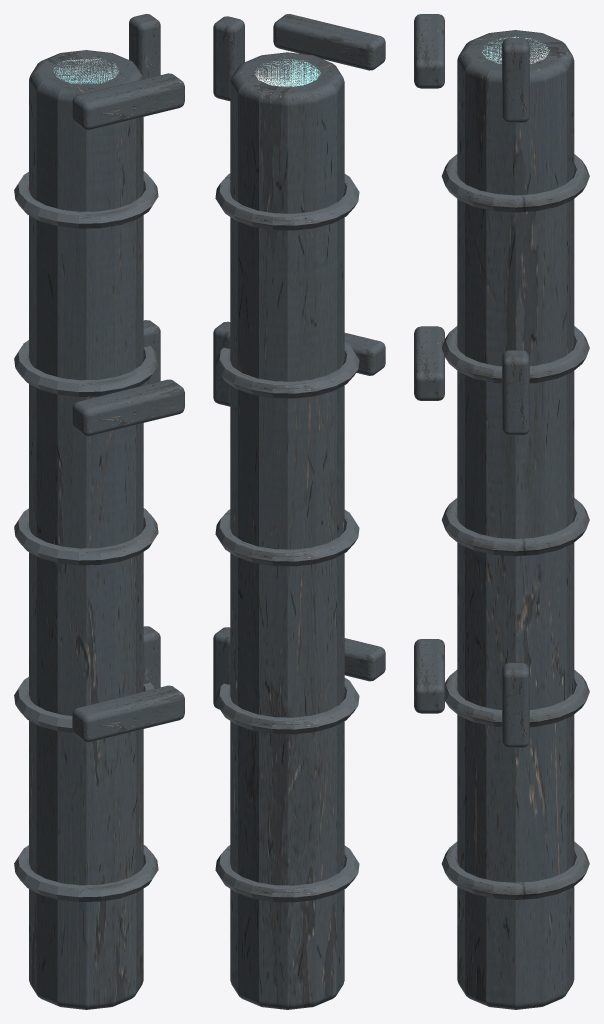
File: conduit.glb
The picture shows the model from 3 angles, left to right: view 1: azimuth 30°, elevation 25°; view 2: azimuth 150°, elevation 25°; view 3: azimuth 270°, elevation 25°; orthographic projection. The views are drawn at different scales.
Visible parts, largest first — view 1: ConduitPipe, ConduitBracket0, ConduitBracket1, ConduitBracket2, ConduitCollar4, ConduitCollar2, ConduitCollar0, ConduitCollar3, ConduitStrap2, ConduitCollar1, ConduitStrap0, ConduitInner (+1 smaller); view 2: ConduitPipe, ConduitBracket2, ConduitCollar4, ConduitCollar2, ConduitCollar0, ConduitCollar1, ConduitCollar3, ConduitStrap2, ConduitBracket0, ConduitInner, ConduitBracket1, ConduitStrap0 (+1 smaller); view 3: ConduitPipe, ConduitCollar0, ConduitCollar4, ConduitCollar2, ConduitCollar3, ConduitCollar1, ConduitStrap0, ConduitStrap2, ConduitStrap1, ConduitBracket0, ConduitBracket2, ConduitBracket1 (+1 smaller).
Part boxes in pixels (<box>): ConduitPipe: <box>29,50,143,1009</box>; ConduitBracket0: <box>72,685,184,742</box>; ConduitBracket1: <box>72,379,184,436</box>; ConduitBracket2: <box>72,73,184,129</box>; ConduitCollar4: <box>14,171,158,228</box>; ConduitCollar2: <box>14,508,158,565</box>; ConduitCollar0: <box>14,845,158,901</box>; ConduitCollar3: <box>14,340,158,396</box>; ConduitStrap2: <box>129,14,160,79</box>; ConduitCollar1: <box>14,677,154,732</box>; ConduitStrap0: <box>143,626,160,688</box>; ConduitInner: <box>54,58,118,83</box>; ConduitPipe: <box>230,52,344,1009</box>; ConduitBracket2: <box>273,14,385,70</box>; ConduitCollar4: <box>215,173,359,230</box>; ConduitCollar2: <box>215,509,359,566</box>; ConduitCollar0: <box>215,845,359,902</box>; ConduitCollar1: <box>215,678,359,734</box>; ConduitCollar3: <box>215,342,359,398</box>; ConduitStrap2: <box>213,16,244,101</box>; ConduitBracket0: <box>344,638,385,681</box>; ConduitInner: <box>255,59,320,86</box>; ConduitBracket1: <box>344,333,385,375</box>; ConduitStrap0: <box>213,627,230,709</box>; ConduitPipe: <box>457,30,574,1009</box>; ConduitCollar0: <box>441,841,589,899</box>; ConduitCollar4: <box>441,154,589,212</box>; ConduitCollar2: <box>442,498,589,556</box>; ConduitCollar3: <box>441,326,589,383</box>; ConduitCollar1: <box>445,670,589,727</box>; ConduitStrap0: <box>502,662,529,747</box>; ConduitStrap2: <box>502,37,529,122</box>; ConduitStrap1: <box>502,350,529,435</box>; ConduitBracket0: <box>414,639,444,713</box>; ConduitBracket2: <box>414,14,444,88</box>; ConduitBracket1: <box>414,326,444,400</box>.
Size of the model in its own units: 0.91 by 6.25 by 1.02.
3 materials, 3 textured.
